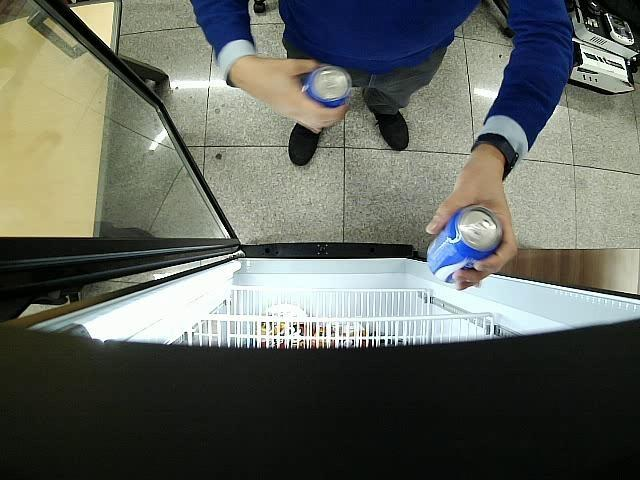13_pocariSweat: (427, 206, 502, 283), (304, 65, 351, 108)
